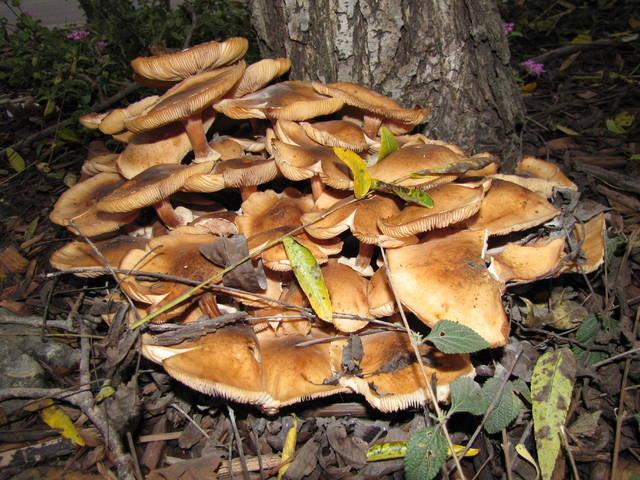edible_mushroom: (47, 35, 584, 414)
